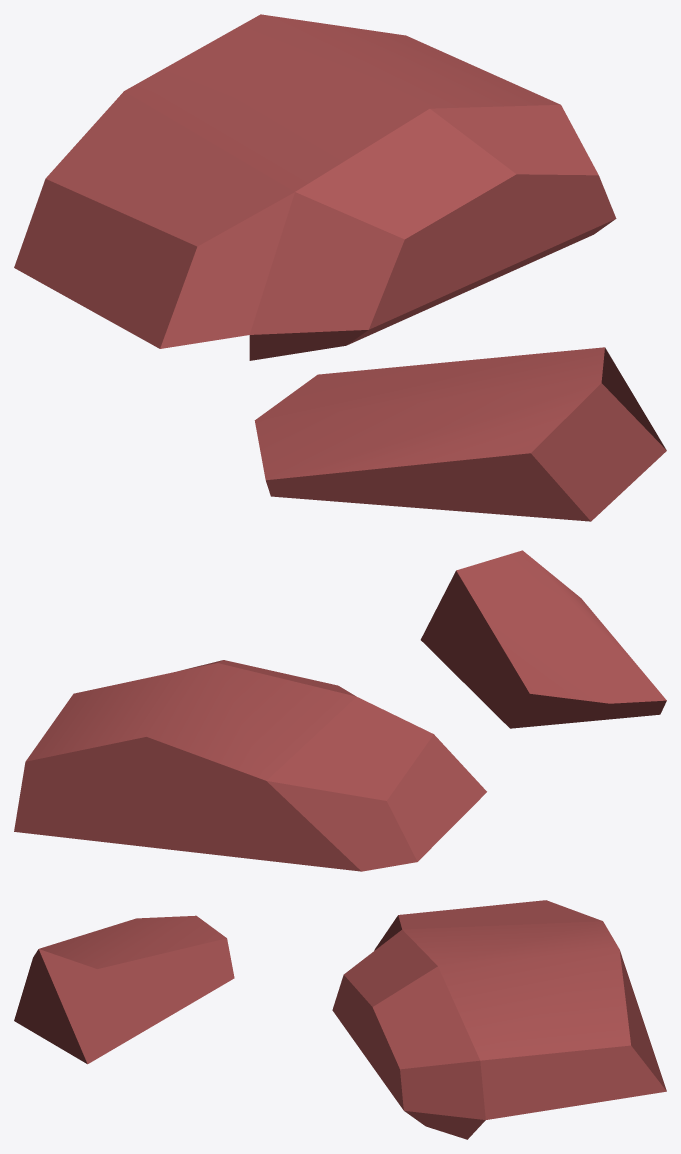
Rendered from SM_Ground_Rock_05.fbx.
3 views of the same model, one above another, from view 1: azimuth 30°, elevation 25°; view 2: azimuth 150°, elevation 25°; view 3: azimuth 270°, elevation 25° (orthographic). The views are drawn at different scales.
Visible parts, largest first — view 1: Box072; view 2: Box072; view 3: Box072.
Boxes of the visible parts, x1,y1,x2,y2 form: Box072: [14, 14, 666, 521]; Box072: [14, 550, 666, 871]; Box072: [14, 900, 666, 1139].
Bounding box in the file's own units: 29.03 × 7.84 × 41.16.
